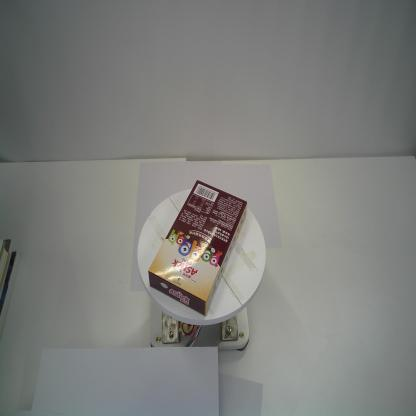Dessert: (147, 177, 248, 318)
